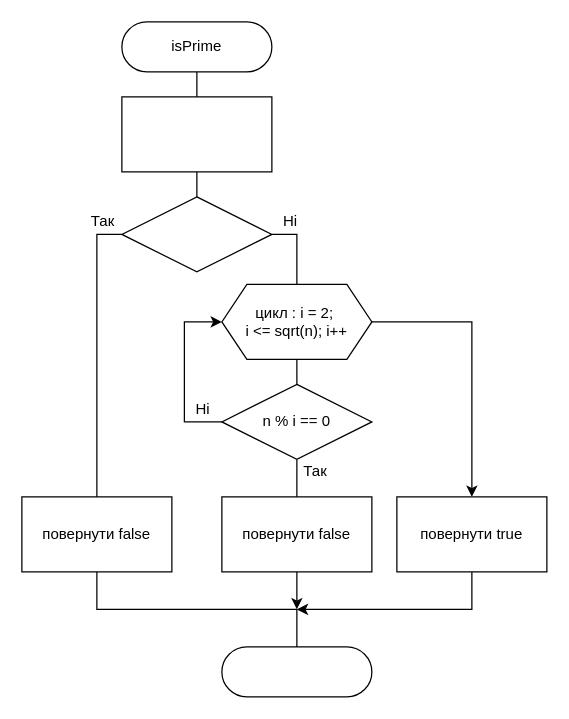
Some shapes in this 569 by 719 pixel diagram are drawn without their labels. The box of each missing label's shape, as (x1, y1, x2, y2) in pixels:
n < 2: (121, 196, 272, 272)
ВИХІД: (221, 646, 372, 697)
прийняти параметр: число n: (121, 96, 272, 172)
